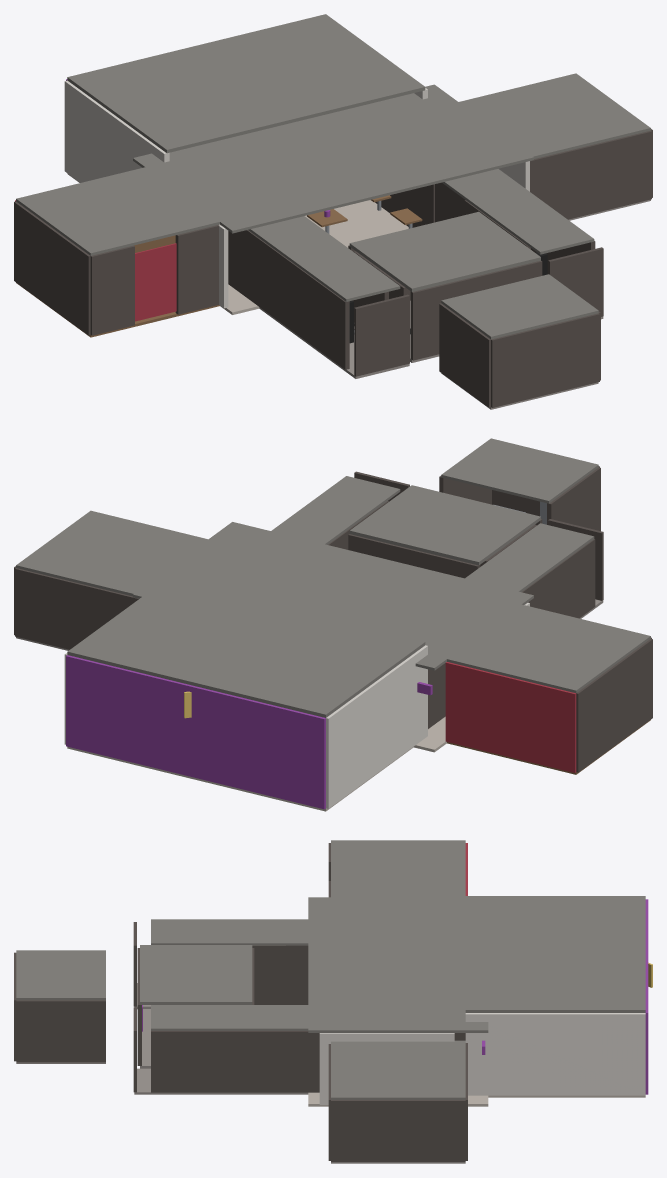
Rendered from environment.glb.
3 views of the same model, one above another, from view 1: azimuth 30°, elevation 25°; view 2: azimuth 150°, elevation 25°; view 3: azimuth 270°, elevation 25° (orthographic). The views are drawn at different scales.
Parts seen in each view (by area): view 1: Dining_Ceiling, Stage_Ceiling, Cove_Ceiling, Kitchen_Ceiling, Office_Ceiling, LHall_Wall_Outer, Kitchen_Wall_S, Parts_Wall_S, Cove_Wall_W, Parts_Ceiling, Stage_Wall_L, LHall_Ceiling (+12 smaller); view 2: Stage_Ceiling, Stage_Wall_Back, Dining_Ceiling, Cove_Wall_N, Cove_Ceiling, Stage_Wall_L, Kitchen_Ceiling, Office_Ceiling, Cove_Wall_W, Kitchen_Wall_N, Parts_Ceiling, LHall_Wall_Outer (+11 smaller); view 3: Dining_Ceiling, Stage_Ceiling, Stage_Wall_R, RHall_Wall_Outer, Kitchen_Wall_E, Kitchen_Ceiling, Cove_Ceiling, Office_Ceiling, Parts_Wall_R, Parts_Ceiling, LHall_Ceiling, RHall_Ceiling (+8 smaller).
Boxes of the visible parts, bbox=[...] form: Dining_Ceiling: bbox=[133, 84, 533, 233]; Stage_Ceiling: bbox=[67, 14, 425, 153]; Cove_Ceiling: bbox=[16, 167, 219, 255]; Kitchen_Ceiling: bbox=[459, 73, 650, 158]; Office_Ceiling: bbox=[349, 211, 540, 291]; LHall_Wall_Outer: bbox=[228, 230, 349, 369]; Kitchen_Wall_S: bbox=[530, 130, 651, 219]; Parts_Wall_S: bbox=[491, 313, 599, 407]; Cove_Wall_W: bbox=[14, 201, 90, 335]; Parts_Ceiling: bbox=[441, 274, 598, 339]; Stage_Wall_L: bbox=[64, 80, 169, 182]; LHall_Ceiling: bbox=[248, 216, 400, 301]; Stage_Ceiling: bbox=[67, 579, 425, 717]; Stage_Wall_Back: bbox=[66, 655, 325, 809]; Dining_Ceiling: bbox=[133, 522, 533, 670]; Cove_Wall_N: bbox=[445, 662, 576, 772]; Cove_Ceiling: bbox=[447, 604, 650, 692]; Stage_Wall_L: bbox=[326, 645, 427, 808]; Kitchen_Ceiling: bbox=[16, 510, 207, 596]; Office_Ceiling: bbox=[349, 485, 540, 565]; Cove_Wall_W: bbox=[576, 639, 652, 772]; Kitchen_Wall_N: bbox=[15, 568, 138, 649]; Parts_Ceiling: bbox=[441, 438, 598, 503]; LHall_Wall_Outer: bbox=[428, 539, 595, 728]; Dining_Ceiling: bbox=[308, 897, 488, 1032]; Stage_Ceiling: bbox=[465, 896, 645, 1012]; Stage_Wall_R: bbox=[465, 1013, 645, 1095]; RHall_Wall_Outer: bbox=[151, 1031, 465, 1092]; Kitchen_Wall_E: bbox=[331, 1100, 465, 1161]; Kitchen_Ceiling: bbox=[331, 1040, 465, 1099]; Cove_Ceiling: bbox=[331, 840, 465, 897]; Office_Ceiling: bbox=[140, 945, 252, 1004]; Parts_Wall_R: bbox=[16, 1000, 105, 1062]; Parts_Ceiling: bbox=[16, 950, 105, 1000]; LHall_Ceiling: bbox=[151, 919, 308, 945]; RHall_Ceiling: bbox=[151, 1005, 308, 1030].
Size of the model in its own units: 26.2 by 4.3 by 28.43.
